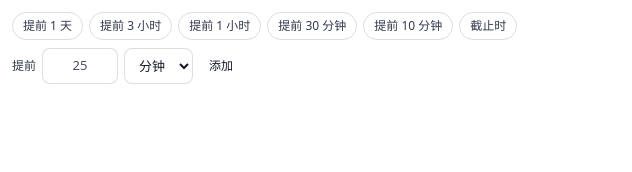
ReminderPicker 自定义提前量 › 60 天边界：60 天通过，61 天与超大数值拒绝
Type "60" into the field named "自定义提前量数值" at (80, 66), box [42,48,118,84]
Select "天" in the dropdown named "提前量单位" at (158, 66), box [124,48,193,84]
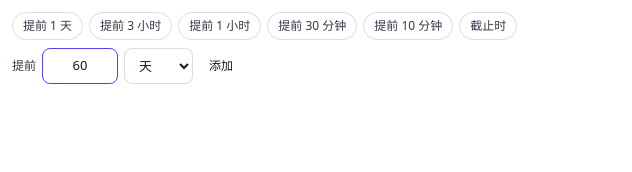
Click the button "添加" at (221, 66), box [199,54,243,78]
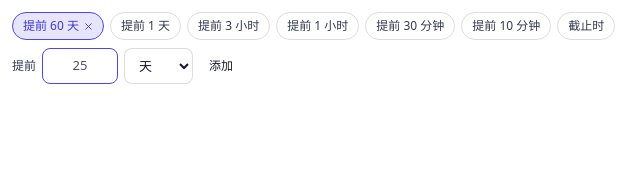
Type "61" into the field named "自定义提前量数值" at (80, 66), box [42,48,118,84]
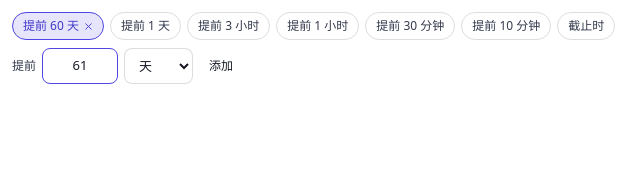
Click the button "添加" at (221, 66), box [199,54,243,78]
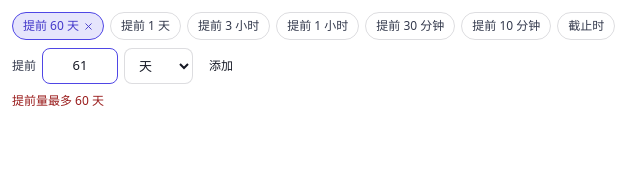
Now the text "提前量最多 60 天" is shown, box [12,92,104,109]
Replace the text in the field named "自定义提前量数值" with "99999999999999999999" at (80, 66), box [42,48,118,84]
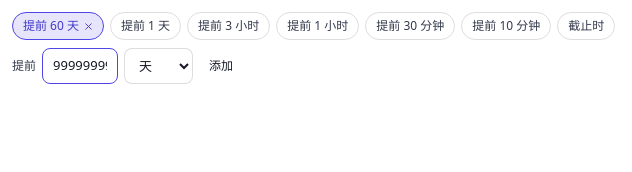
Click the button "添加" at (221, 66), box [199,54,243,78]
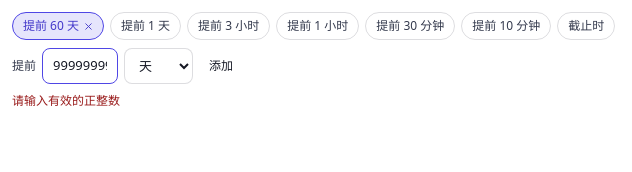
Now the text "请输入有效的正整数" is shown, box [12,92,120,109]
